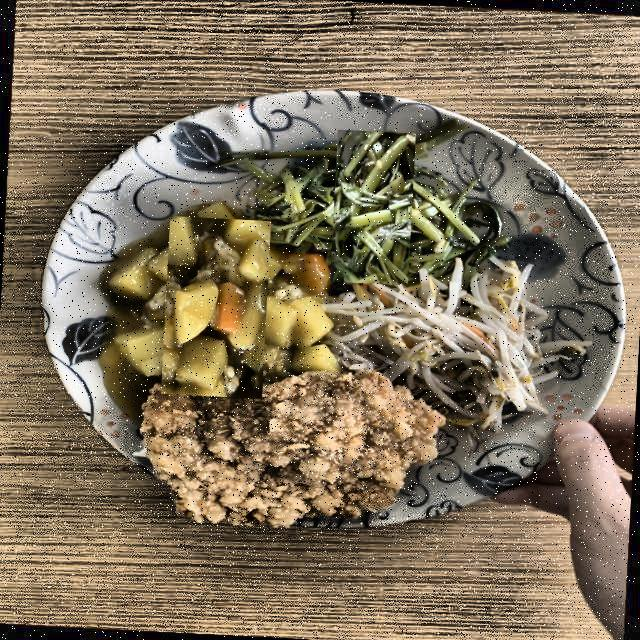Food: (168, 378, 406, 522), (143, 235, 290, 382), (312, 146, 433, 268), (395, 284, 525, 382)
